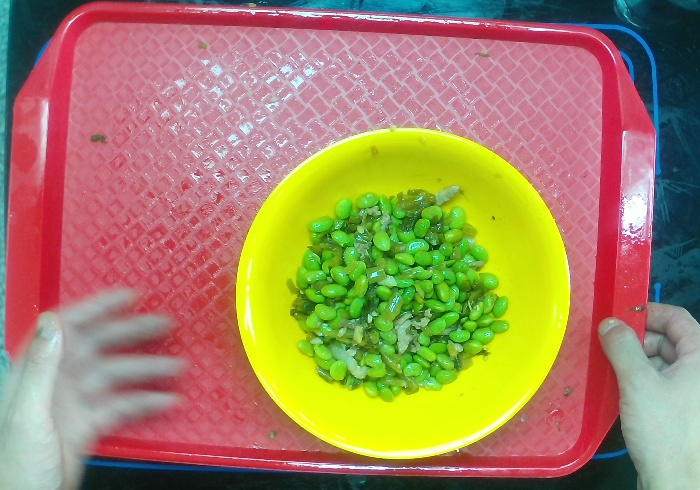YKMZ-Huang_Se_Tang_Wan: (227, 120, 579, 470)
